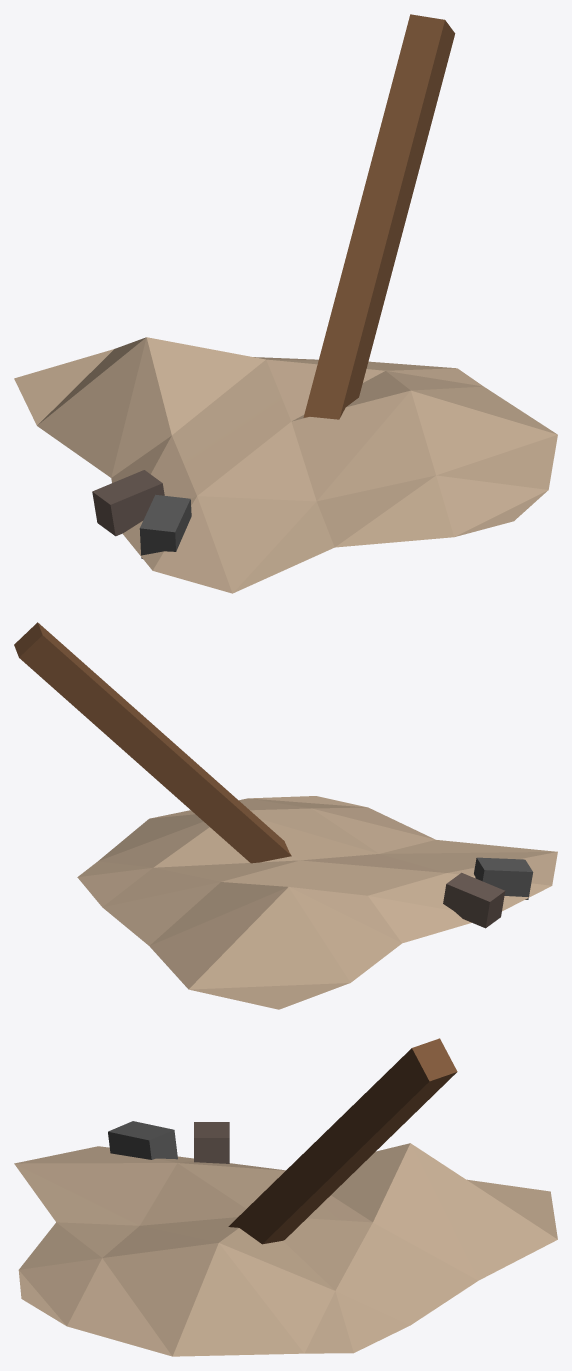
File: rubbish_1.fbx
The picture shows the model from 3 angles, top to bottom: view 1: azimuth 30°, elevation 25°; view 2: azimuth 150°, elevation 25°; view 3: azimuth 270°, elevation 25°; orthographic projection. The views are drawn at different scales.
Visible parts, largest first — view 1: Object.033; view 2: Object.033; view 3: Object.033.
Boxes of the visible parts, bbox=[...] form: Object.033: bbox=[14, 14, 557, 593]; Object.033: bbox=[14, 622, 557, 1009]; Object.033: bbox=[14, 1038, 557, 1356].
Bounding box in the file's own units: 894 × 591 × 916.
